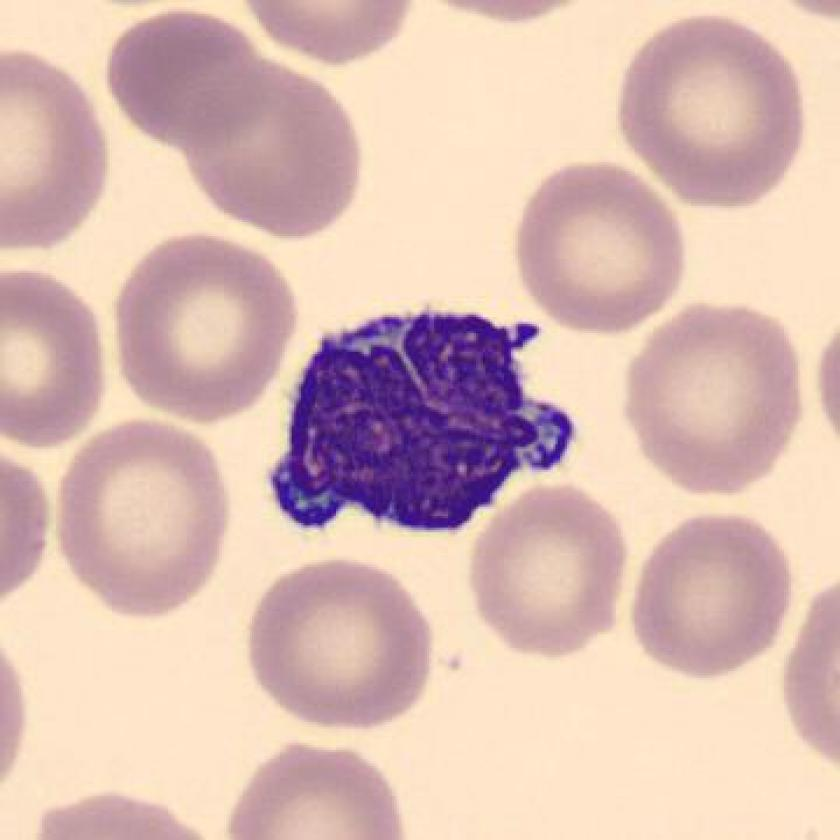lymphocyte: (255, 300, 587, 557)
